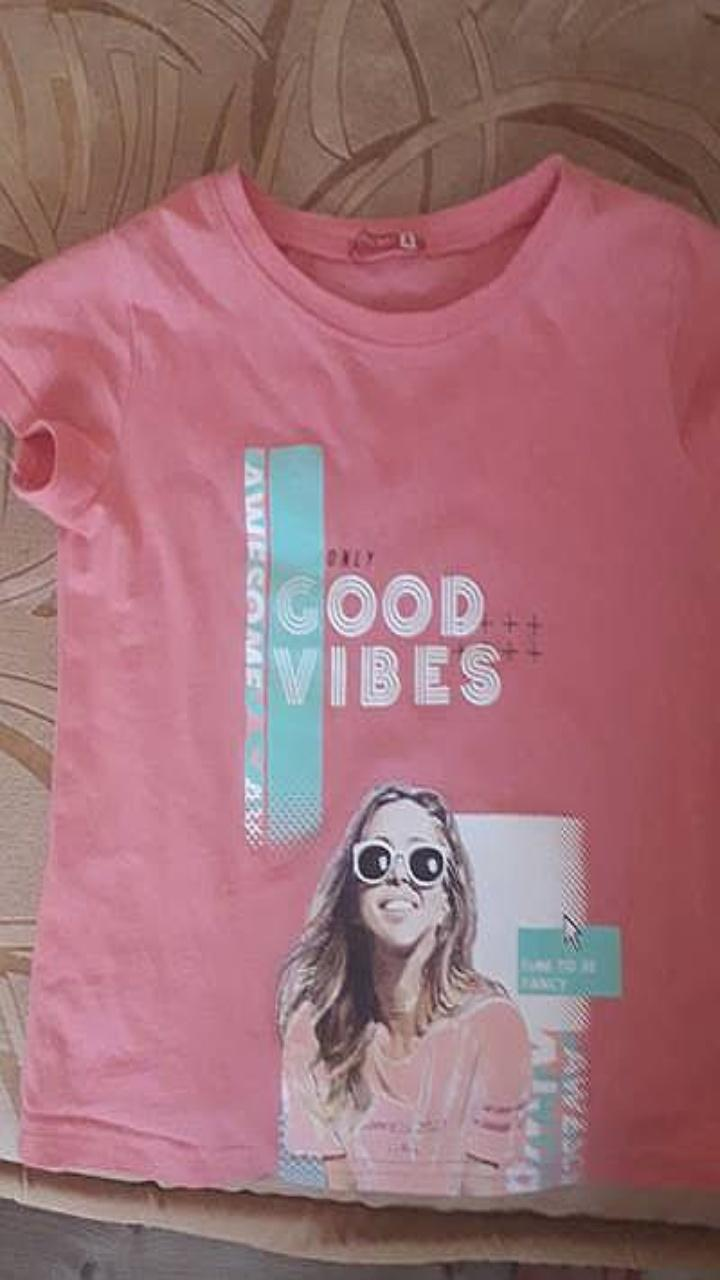T-Shirt: (0, 153, 719, 1196), (284, 995, 531, 1195)
